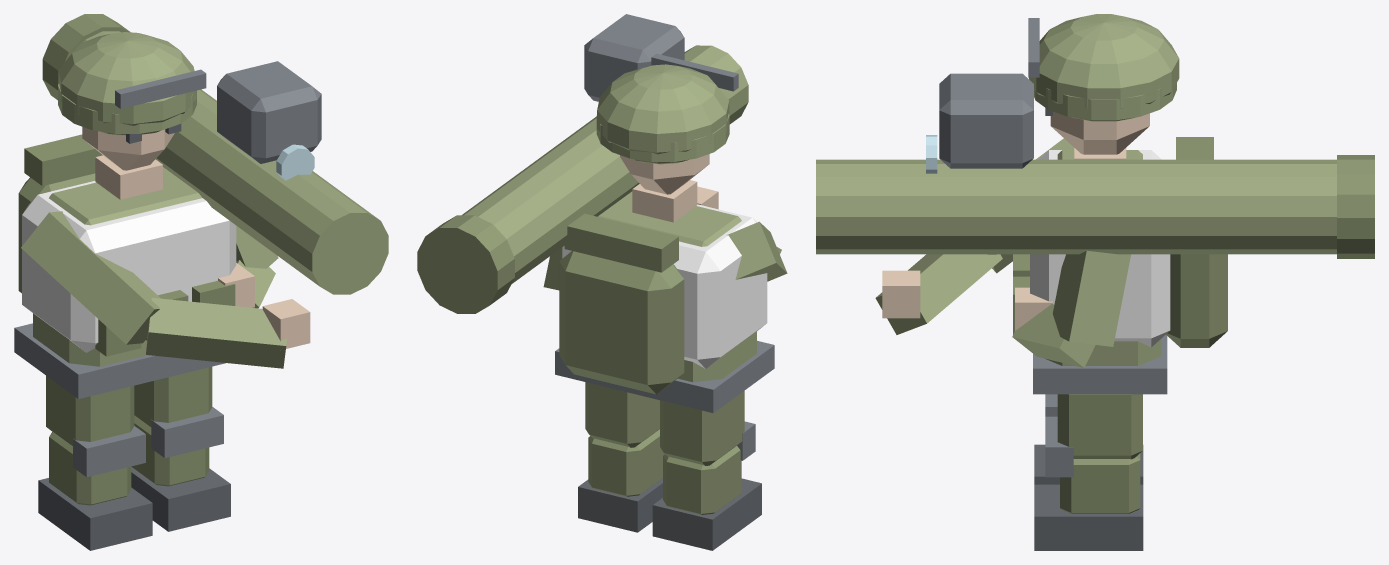
File: atguided.glb
3 renders of one model, left to right at view 1: azimuth 30°, elevation 25°; view 2: azimuth 150°, elevation 25°; view 3: azimuth 270°, elevation 25°, orthographic. The views are drawn at different scales.
Visible parts, largest first — view 1: main, shinl, shinr, legl, legr; view 2: main, shinl, shinr, legl, legr; view 3: main, shinr, legr, shinl.
Part boxes in pixels (<box>): main: <box>14,14,388,398</box>; shinl: <box>38,426,152,550</box>; shinr: <box>131,407,230,531</box>; legl: <box>46,375,134,446</box>; legr: <box>134,366,212,427</box>; main: <box>417,14,787,413</box>; shinl: <box>652,421,761,550</box>; shinr: <box>578,429,664,532</box>; legl: <box>660,391,744,465</box>; legr: <box>585,382,659,447</box>; main: <box>816,14,1374,394</box>; shinr: <box>1034,416,1143,550</box>; legr: <box>1057,394,1142,459</box>; shinl: <box>1034,394,1143,484</box>.
Size of the model in its own units: 0.3161 by 0.5733 by 0.59.
